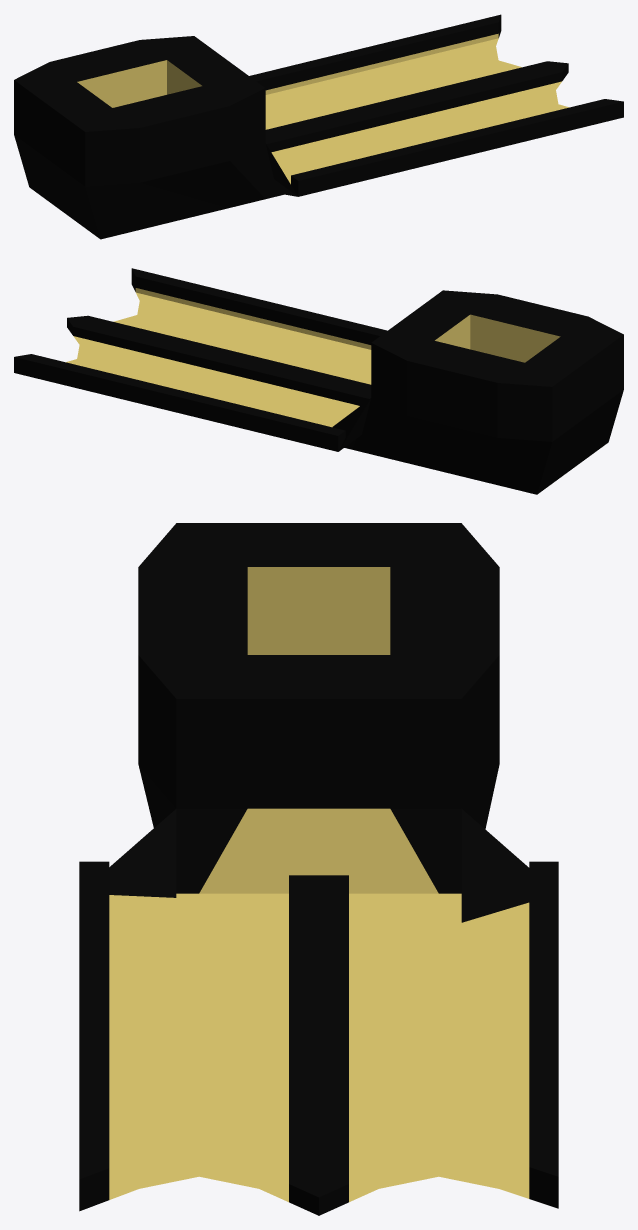
Rendered from foot.fbx.
The picture shows the model from 3 angles, top to bottom: view 1: azimuth 30°, elevation 25°; view 2: azimuth 150°, elevation 25°; view 3: azimuth 270°, elevation 25°; orthographic projection. The views are drawn at different scales.
Parts seen in each view (by area): view 1: 큐브.004; view 2: 큐브.004; view 3: 큐브.004.
Part boxes in pixels (left/top/right/bottom): 큐브.004: left=14, top=14, right=623, bottom=239; 큐브.004: left=14, top=268, right=623, bottom=494; 큐브.004: left=79, top=523, right=558, bottom=1215.
Size of the model in its own units: 287 by 58.8 by 115.
